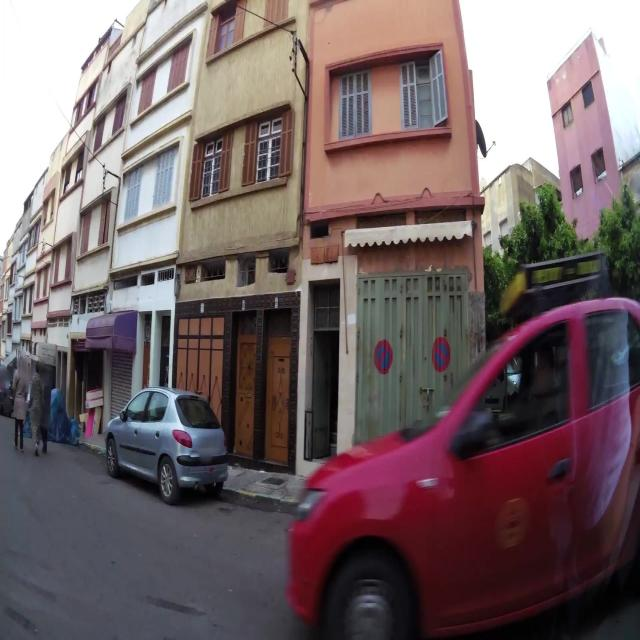forb_stopping: (431, 334, 450, 374), (375, 338, 391, 375)
